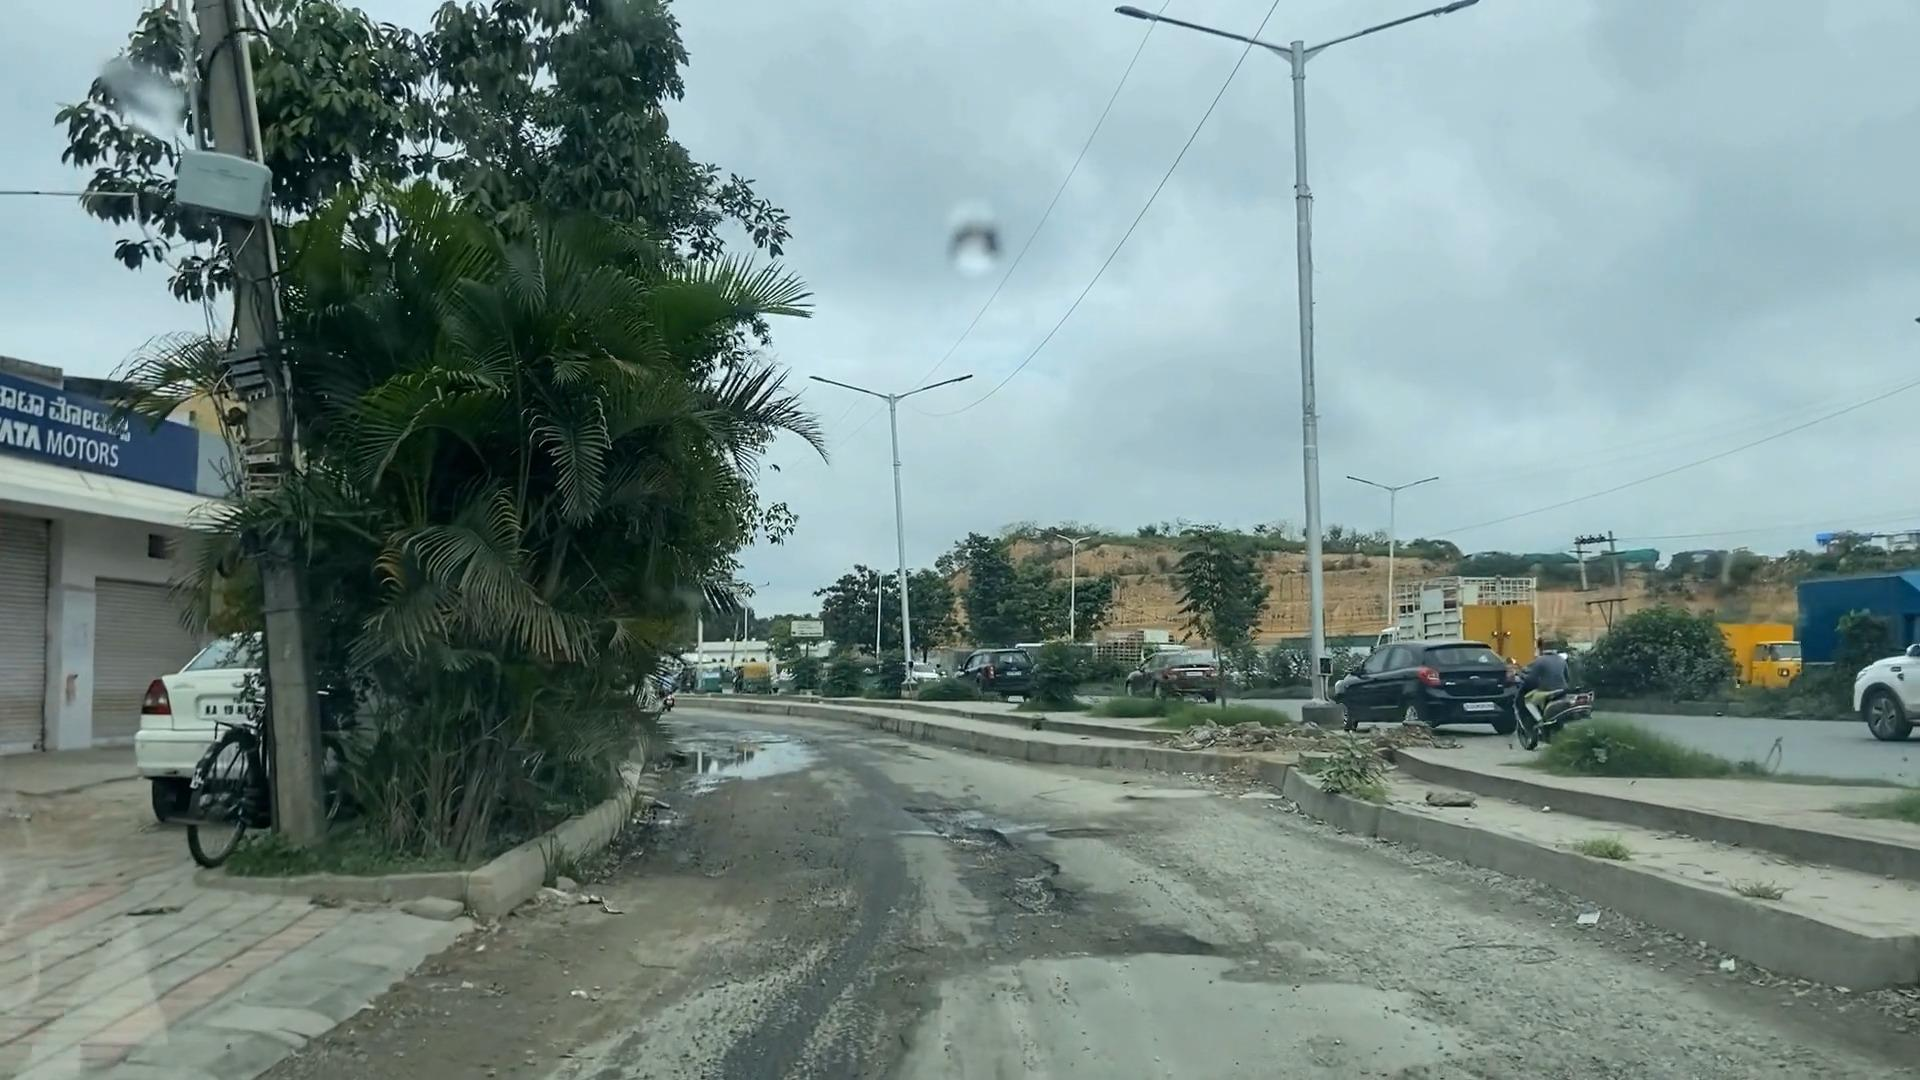RoadDamages: (901, 785, 1232, 992), (1240, 923, 1652, 1076)
